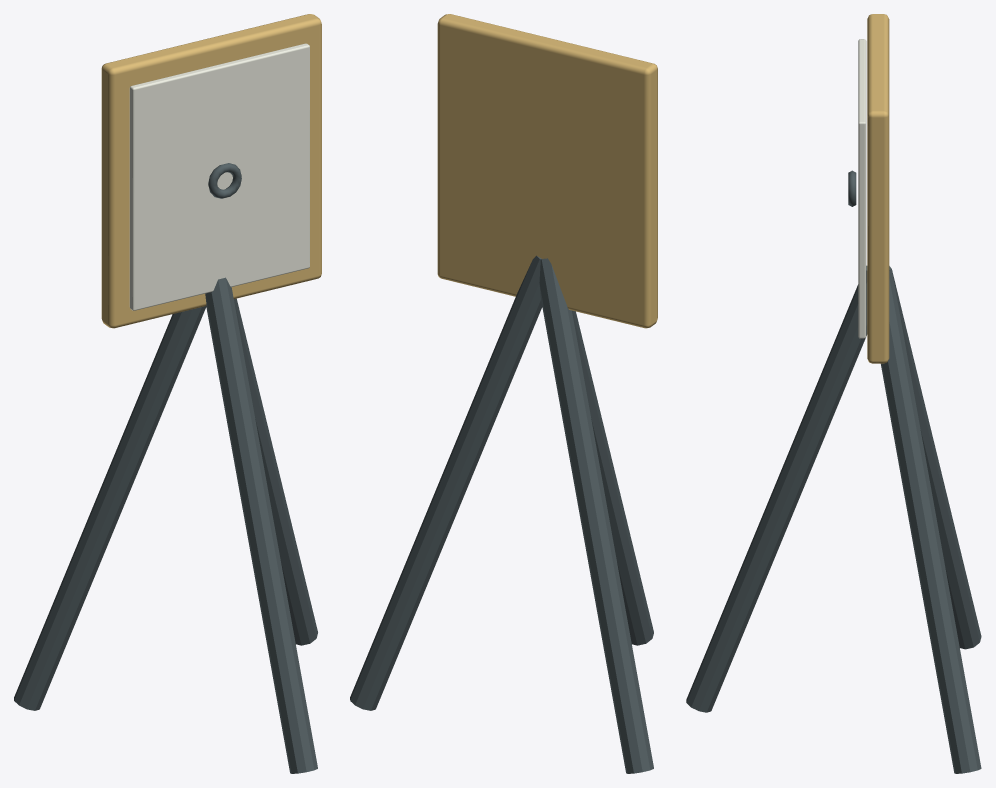
Rendered from castaway-island-escape-signal-mirror-stand-519cbda5__28059.glb.
3 renders of one model, left to right at view 1: azimuth 30°, elevation 25°; view 2: azimuth 150°, elevation 25°; view 3: azimuth 270°, elevation 25°, orthographic. The views are drawn at different scales.
Parts seen in each view (by area): view 1: signal-mirror-stand-ivory, signal-mirror-stand-iron, signal-mirror-stand-brass; view 2: signal-mirror-stand-brass, signal-mirror-stand-iron; view 3: signal-mirror-stand-iron, signal-mirror-stand-brass, signal-mirror-stand-ivory.
Boxes of the visible parts, bbox=[...] form: signal-mirror-stand-ivory: bbox=[129, 43, 309, 310]; signal-mirror-stand-iron: bbox=[14, 163, 317, 773]; signal-mirror-stand-brass: bbox=[101, 14, 321, 328]; signal-mirror-stand-brass: bbox=[437, 14, 657, 328]; signal-mirror-stand-iron: bbox=[350, 255, 653, 773]; signal-mirror-stand-iron: bbox=[686, 170, 981, 773]; signal-mirror-stand-brass: bbox=[867, 14, 889, 363]; signal-mirror-stand-ivory: bbox=[858, 39, 866, 338].
Bounding box in the file's own units: 0.8443 × 1.79 × 0.7404.
